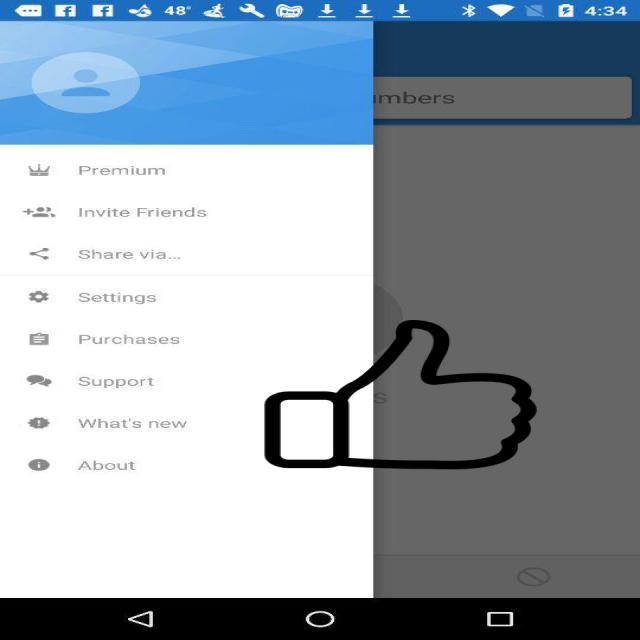privacy zuckering: (261, 320, 540, 469)
